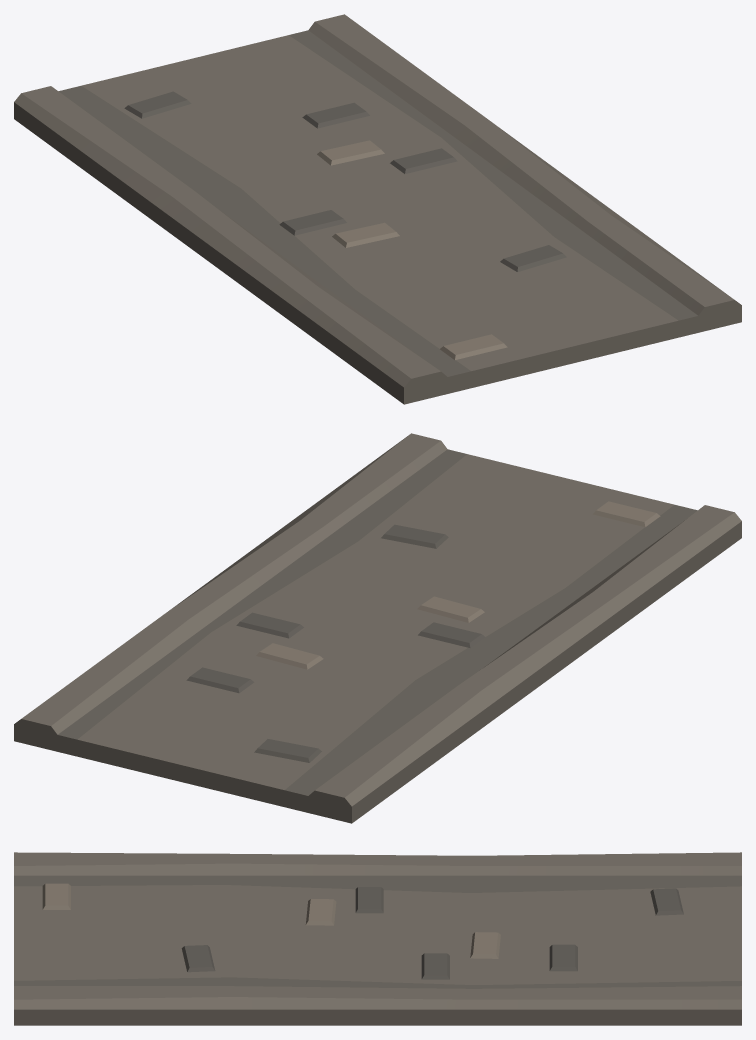
The model's file is SM_Env_Path_Straight_01.fbx.
3 renders of one model, top to bottom at view 1: azimuth 30°, elevation 25°; view 2: azimuth 150°, elevation 25°; view 3: azimuth 270°, elevation 25°, orthographic. The views are drawn at different scales.
Parts seen in each view (by area): view 1: SM_Env_Path_Straight_01; view 2: SM_Env_Path_Straight_01; view 3: SM_Env_Path_Straight_01.
Boxes of the visible parts, <box> form: SM_Env_Path_Straight_01: <box>14,14,741,404</box>; SM_Env_Path_Straight_01: <box>14,433,741,823</box>; SM_Env_Path_Straight_01: <box>14,852,741,1025</box>.
Bounding box in the file's own units: 250 × 17.05 × 500.
